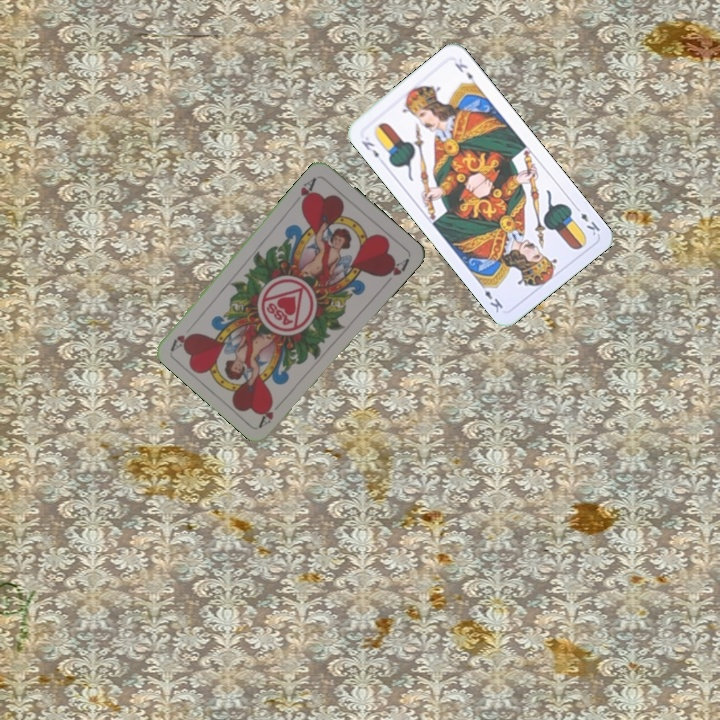EK: (571, 202, 603, 238), (357, 136, 382, 161)
HA: (255, 396, 287, 429), (296, 173, 319, 209)
